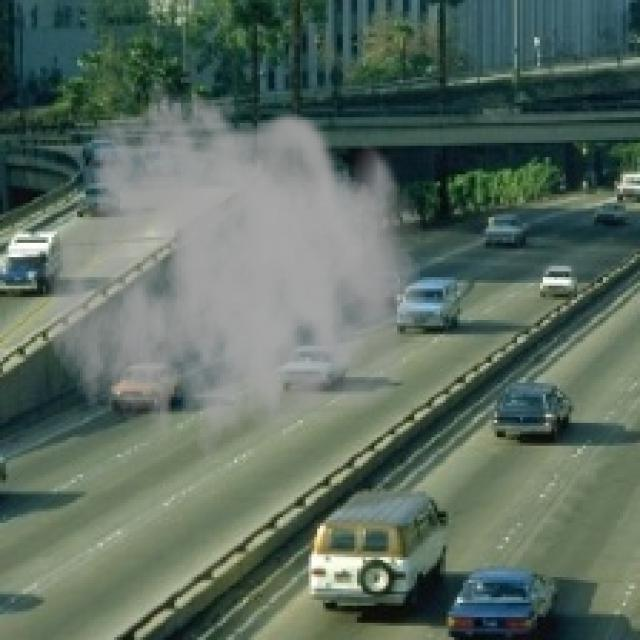Smoke: (43, 77, 426, 483)
